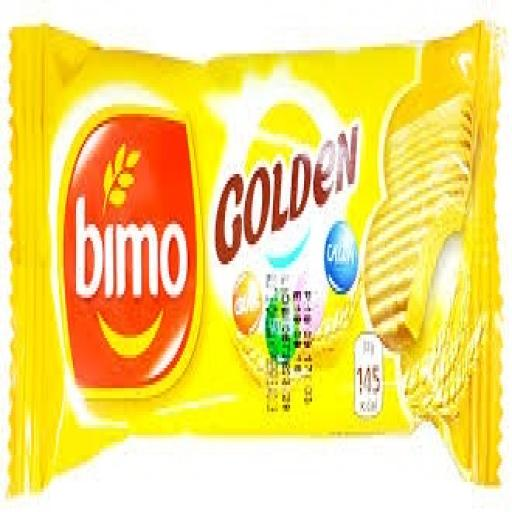golden: (11, 2, 502, 496)
